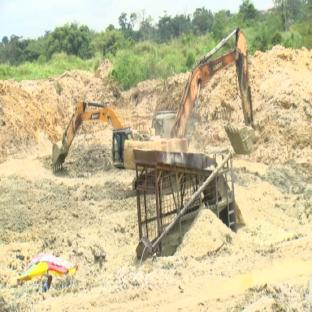ExcavationMachinery: (125, 24, 264, 149), (42, 92, 140, 179)
ProcessingEquipment: (135, 147, 240, 247)
